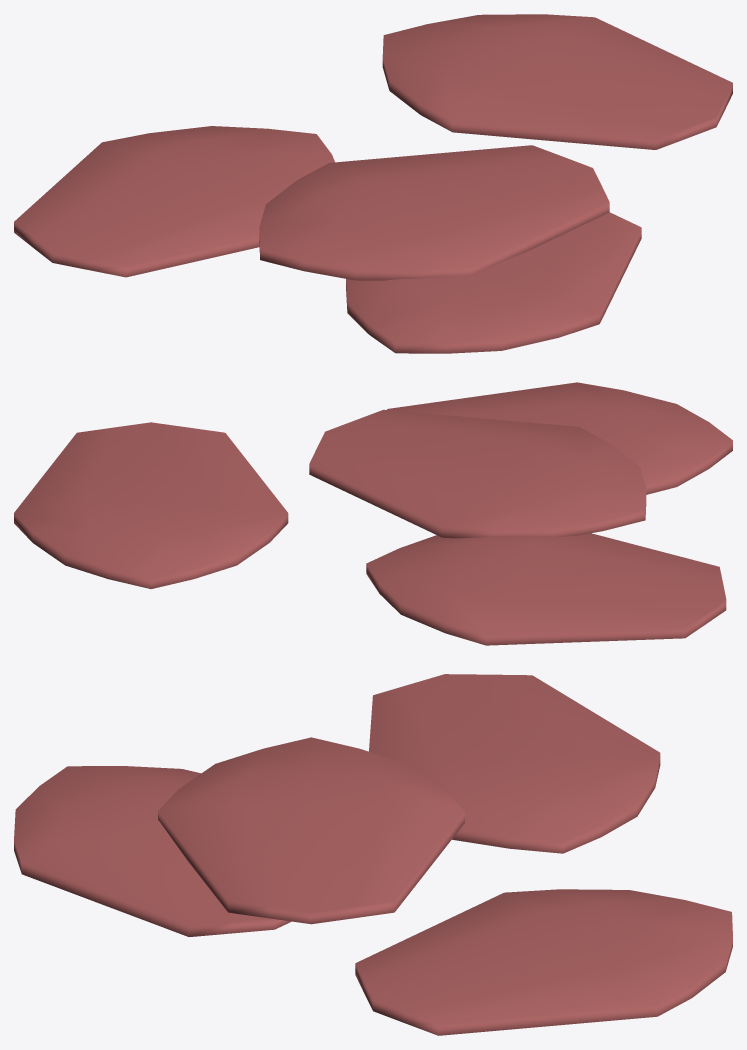
The model's file is Scales.fbx.
3 renders of one model, top to bottom at view 1: azimuth 30°, elevation 25°; view 2: azimuth 150°, elevation 25°; view 3: azimuth 270°, elevation 25°, orthographic. The views are drawn at different scales.
Visible parts, largest first — view 1: Scales; view 2: Scales; view 3: Scales.
Boxes of the visible parts, bbox=[...] form: Scales: bbox=[14, 14, 732, 353]; Scales: bbox=[14, 382, 732, 645]; Scales: bbox=[14, 674, 732, 1035].
Size of the model in its own units: 16.23 by 0.8039 by 13.84.
